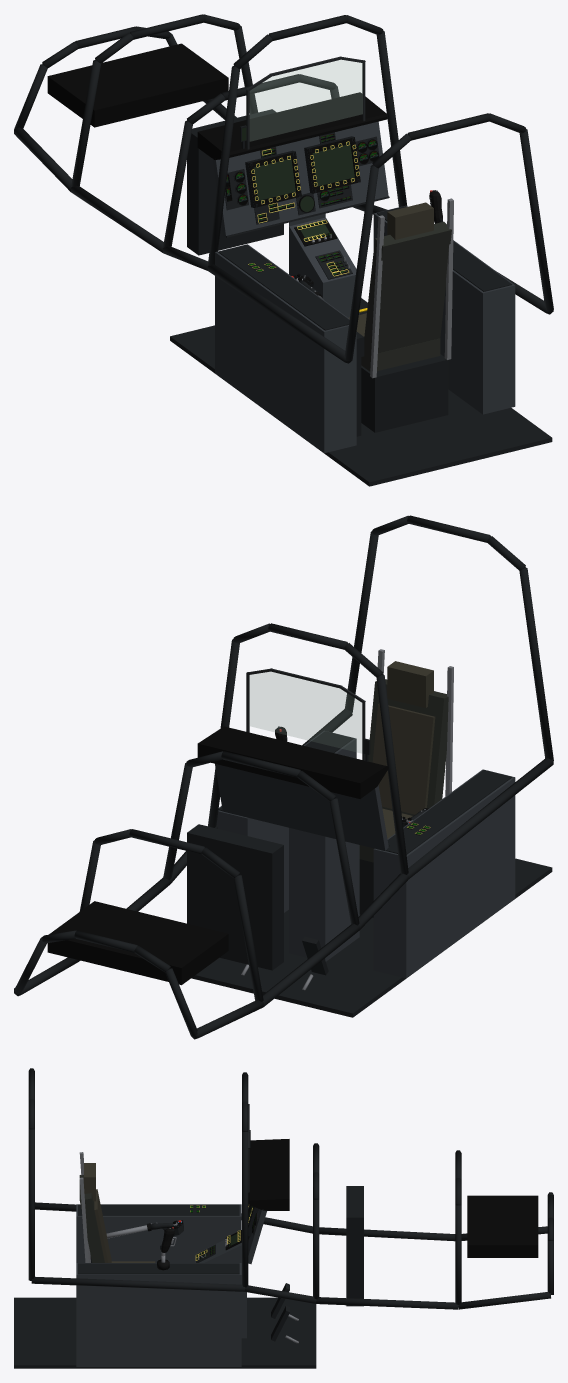
Rendered from cockpit_ah1z.glb.
The picture shows the model from 3 angles, top to bottom: view 1: azimuth 30°, elevation 25°; view 2: azimuth 150°, elevation 25°; view 3: azimuth 270°, elevation 25°; orthographic projection. The views are drawn at different scales.
Parts seen in each view (by area): view 1: panel_grey.003, dark.108, black.077, panel_grey.004, seat_95, hud_glass_69, black, dark.111, panel_grey, dark.116, dark.106, panel_grey.001 (+22 smaller); view 2: panel_grey.003, dark.116, dark.108, black.077, panel_grey, panel_grey.001, hud_glass_69, black, cushion_96, dark.106, panel_grey.002, seat_95 (+21 smaller); view 3: panel_grey.004, dark.108, panel_grey.003, black.077, black, dark.116, dark.107, dark.106, canopy_sill.006, canopy_sill.002, canopy_frame.015, canopy_frame.020 (+11 smaller).
Part boxes in pixels (x1,y1,x2,y2): panel_grey.003: [215, 244, 356, 453]; dark.108: [170, 298, 552, 486]; black.077: [47, 43, 228, 127]; panel_grey.004: [373, 205, 515, 414]; seat_95: [364, 221, 451, 358]; hud_glass_69: [250, 60, 362, 141]; black: [197, 92, 387, 159]; dark.111: [361, 354, 448, 432]; panel_grey: [212, 121, 388, 237]; dark.116: [187, 109, 283, 255]; dark.106: [218, 244, 349, 330]; panel_grey.001: [289, 217, 359, 317]; panel_grey.003: [373, 769, 515, 978]; dark.116: [187, 824, 283, 970]; dark.108: [191, 858, 552, 1017]; black.077: [47, 901, 228, 985]; panel_grey: [215, 764, 388, 851]; panel_grey.001: [289, 828, 359, 961]; hud_glass_69: [249, 672, 361, 752]; black: [197, 726, 388, 798]; cushion_96: [372, 703, 435, 814]; dark.106: [386, 770, 512, 854]; panel_grey.002: [289, 831, 325, 960]; seat_95: [368, 679, 448, 815]; panel_grey.004: [76, 1263, 241, 1366]; dark.108: [14, 1297, 316, 1368]; panel_grey.003: [76, 1204, 241, 1262]; black.077: [467, 1195, 538, 1257]; black: [248, 1139, 289, 1210]; dark.116: [346, 1186, 363, 1306]; dark.107: [78, 1263, 239, 1274]; dark.106: [78, 1204, 239, 1215]; canopy_sill.006: [31, 1276, 245, 1291]; canopy_sill.002: [316, 1297, 458, 1309]; canopy_frame.015: [242, 1132, 248, 1287]; canopy_frame.020: [28, 1129, 34, 1280].
Size of the model in its own units: 1.03 by 1.56 by 3.04.
Materials: 27 (6 with a texture image).
